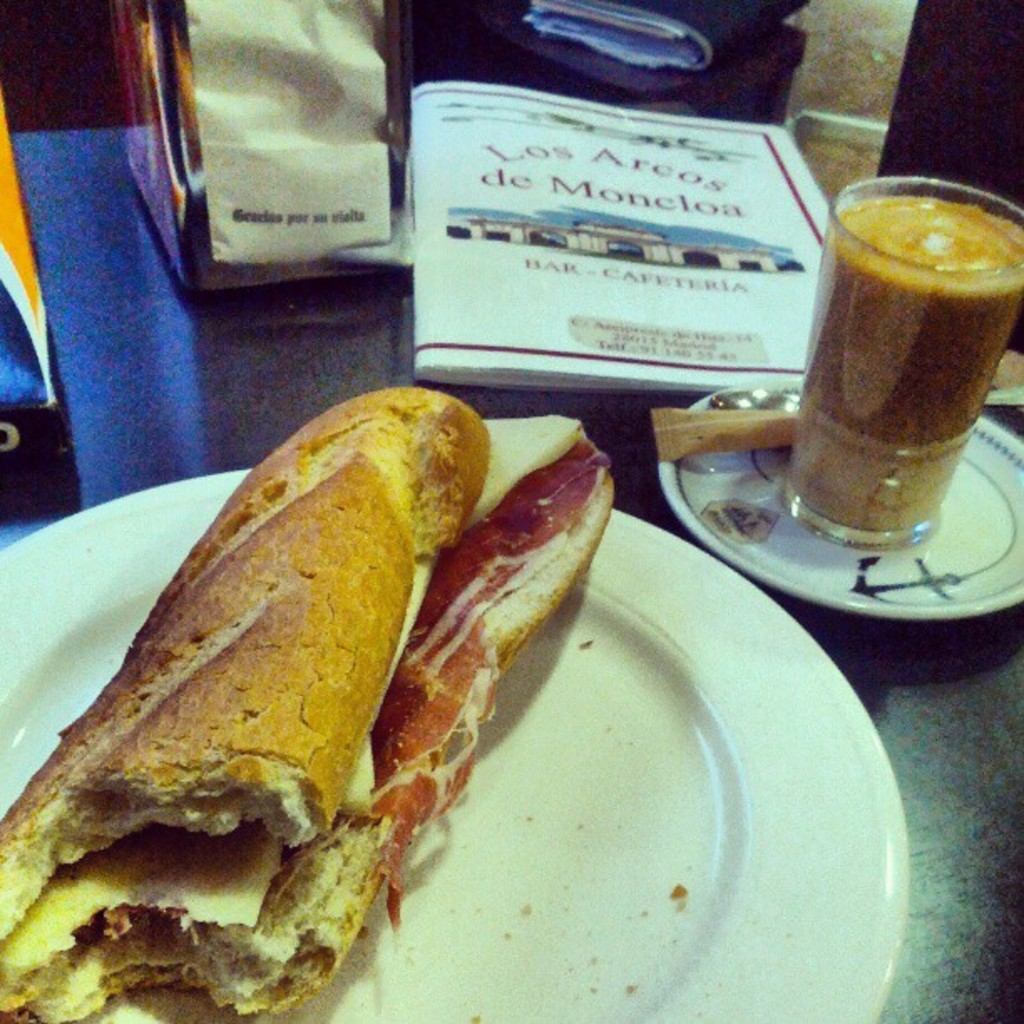sandwich: (0, 380, 619, 1022)
